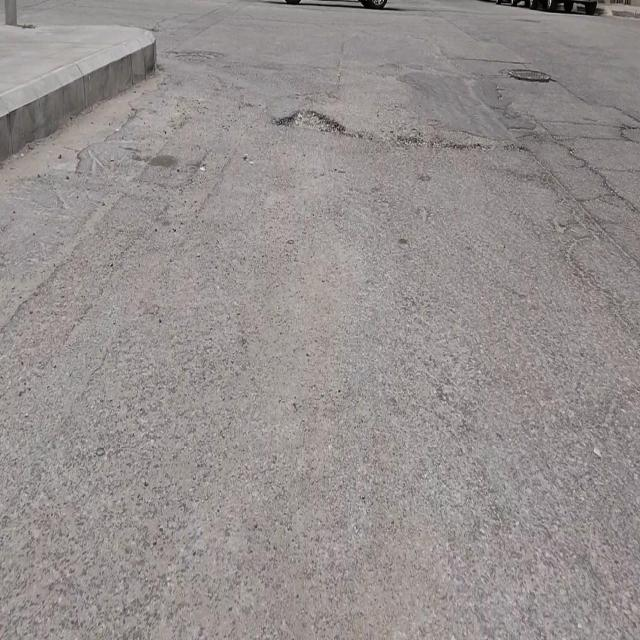Pothole: (274, 105, 344, 136)
